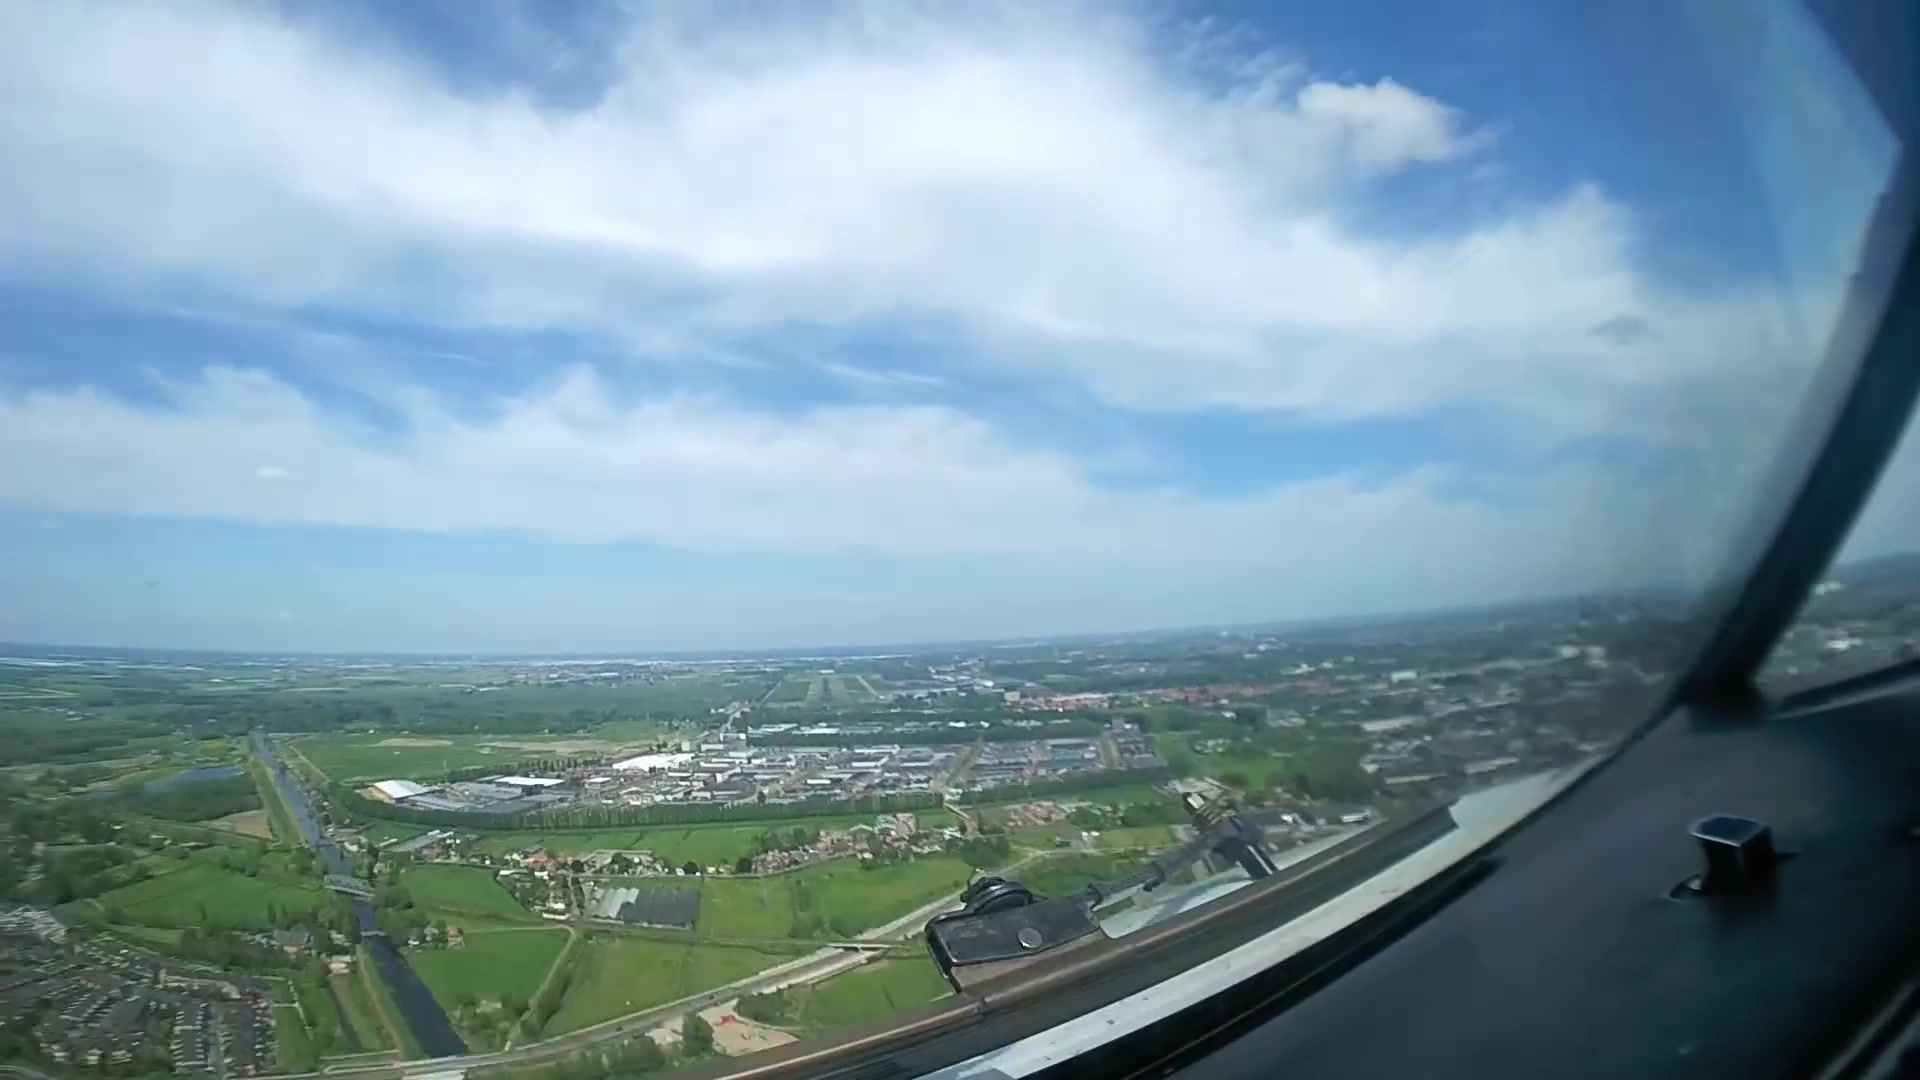runway: (818, 674, 836, 709)
